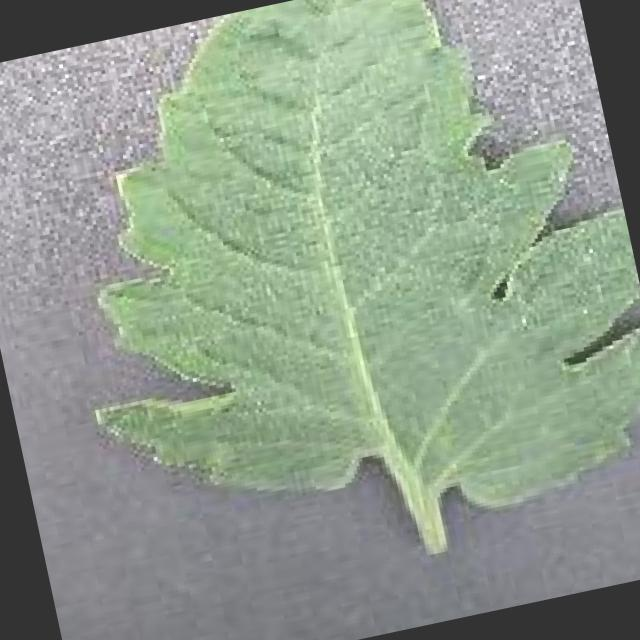healthy: (95, 0, 640, 545)
